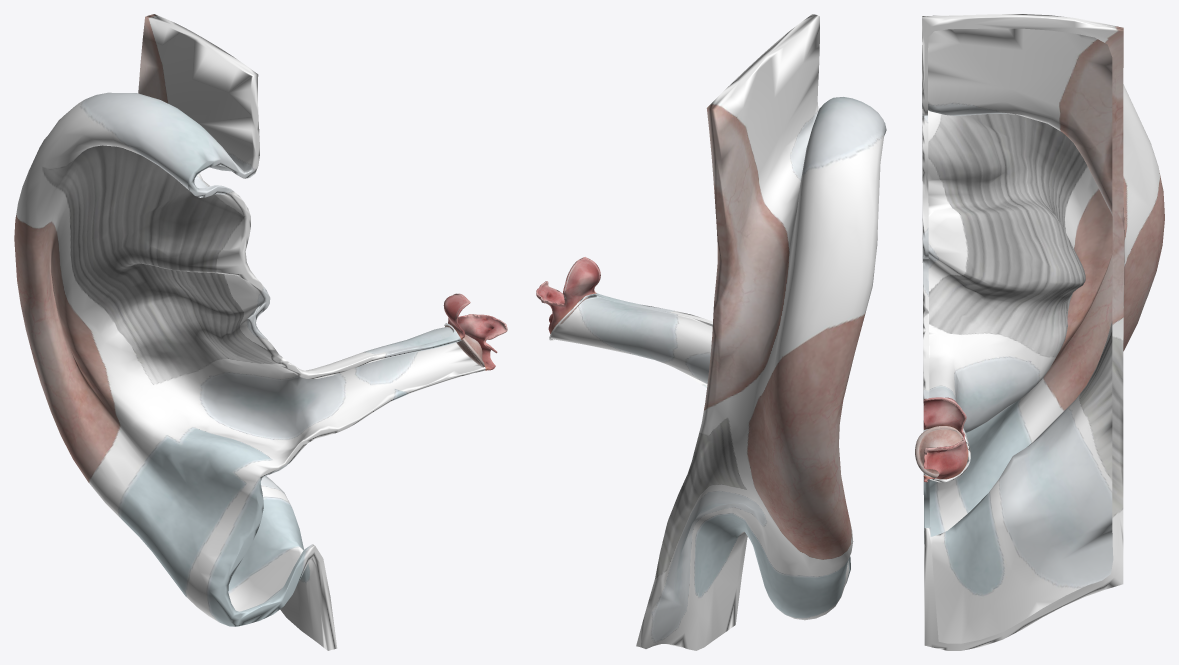
Rendered from ear.fbx.
3 views of the same model, side by side, from view 1: azimuth 30°, elevation 25°; view 2: azimuth 150°, elevation 25°; view 3: azimuth 270°, elevation 25° (orthographic). The views are drawn at different scales.
Visible parts, largest first — view 1: Auricle (external ear or pinna), antihelical fold#~300710, Middle ear chamber (tympanic cavity)#~300742; view 2: Auricle (external ear or pinna), antihelical fold#~300710, Middle ear chamber (tympanic cavity)#~300742; view 3: Auricle (external ear or pinna), antihelical fold#~300710, Middle ear chamber (tympanic cavity)#~300742, Tympanic membrane (ear drum)#~300776.
Boxes of the visible parts, box(x1,y1,x2,y2) form: Auricle (external ear or pinna), antihelical fold#~300710: box(14, 14, 485, 650); Middle ear chamber (tympanic cavity)#~300742: box(443, 293, 507, 370); Auricle (external ear or pinna), antihelical fold#~300710: box(549, 14, 886, 650); Middle ear chamber (tympanic cavity)#~300742: box(536, 257, 600, 333); Auricle (external ear or pinna), antihelical fold#~300710: box(922, 14, 1164, 650); Middle ear chamber (tympanic cavity)#~300742: box(923, 397, 968, 482); Tympanic membrane (ear drum)#~300776: box(915, 426, 962, 477).
Size of the model in its own units: 53 by 76.56 by 29.31.
Materials: 2 (2 with a texture image).
